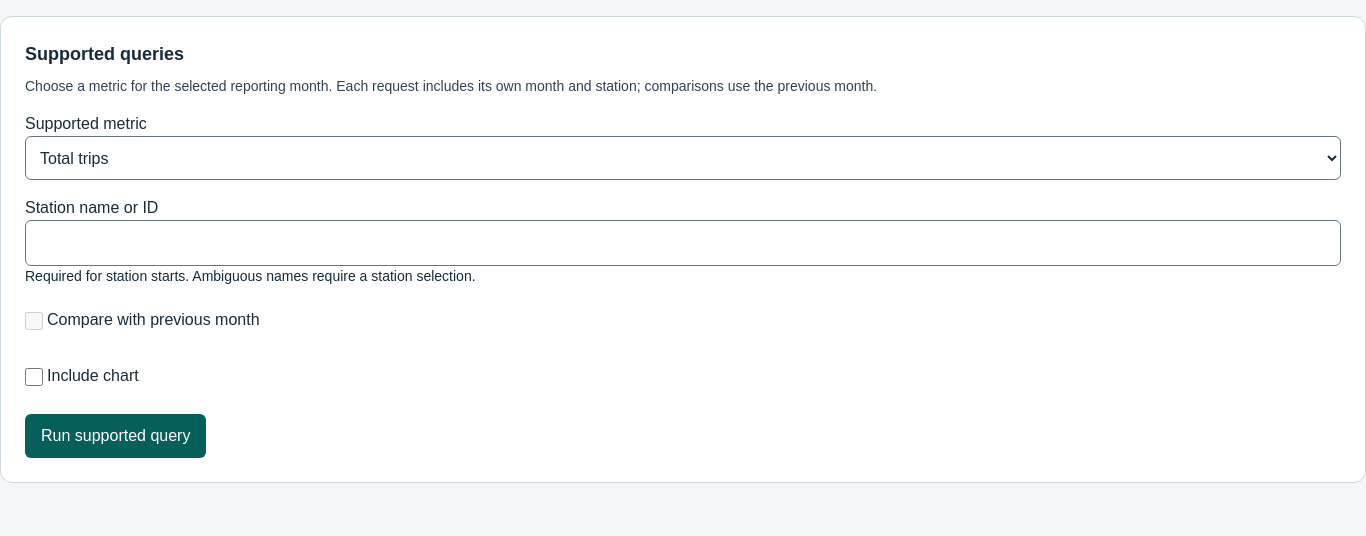
Scenario: handles refused without fabricated report
Click the button "Run supported query": (116, 436) [25,414,206,458]
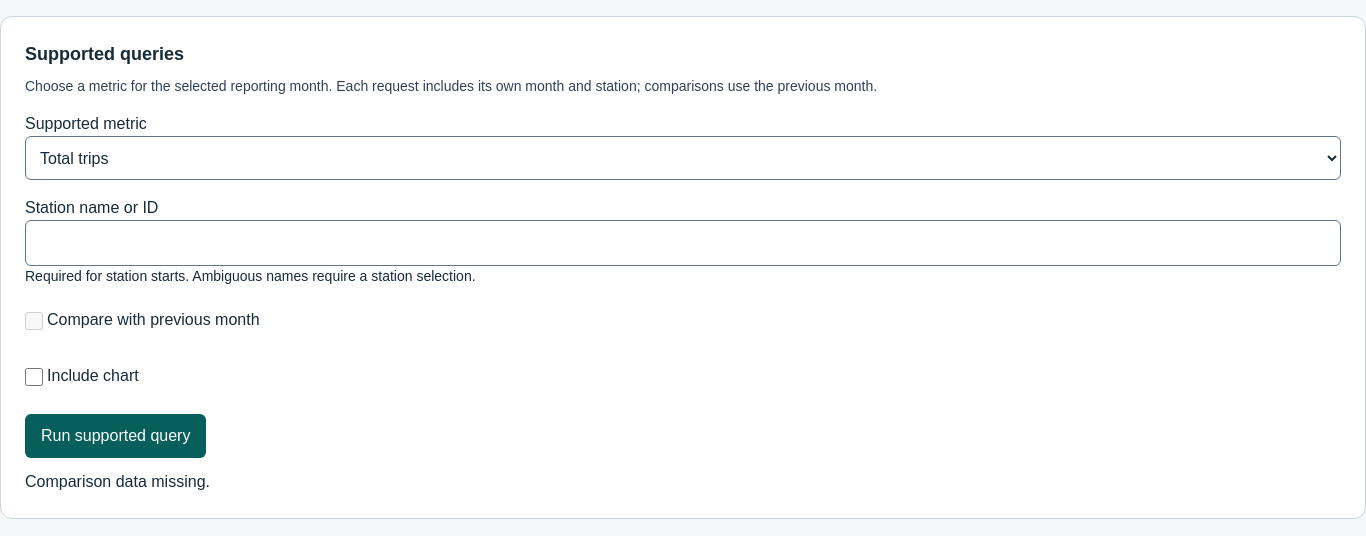
Result: the message reads "Comparison data missing." at [25,473,210,490]
